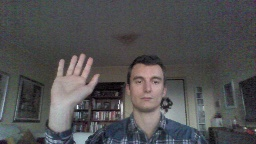Mano_aperta: (47, 52, 102, 108)
